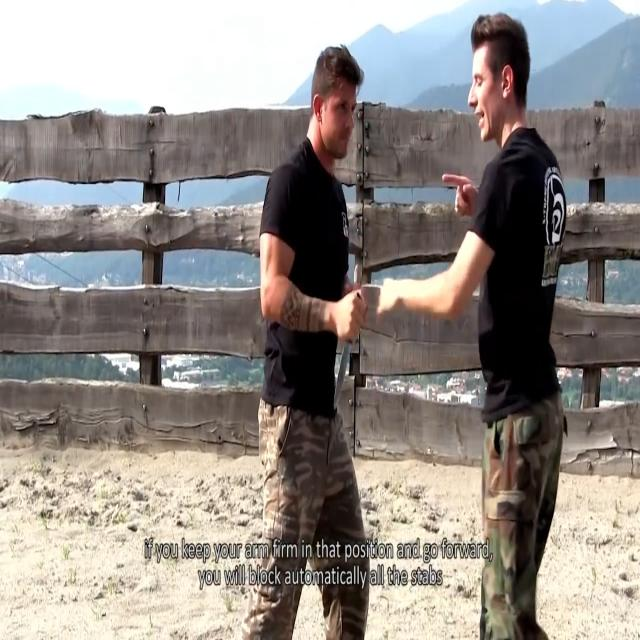knife: (333, 331, 353, 423)
